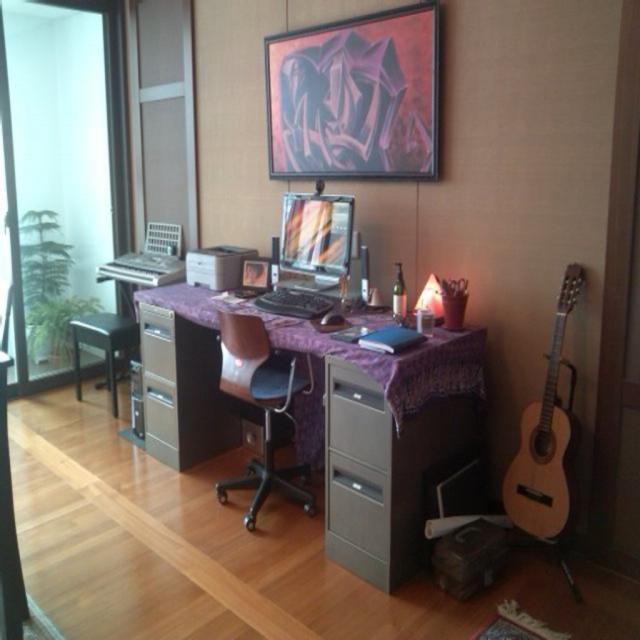chair: (214, 311, 316, 532), (68, 281, 140, 419)
desk: (120, 275, 484, 576)
keyboard: (254, 287, 334, 319)
laptop: (98, 219, 184, 282)
mouse: (320, 313, 343, 324)
tv: (276, 191, 354, 290)
